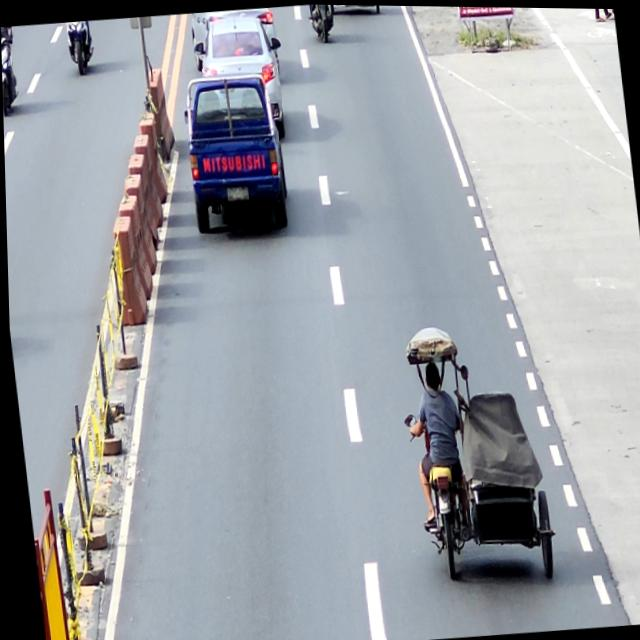Car: (179, 70, 290, 234), (193, 7, 290, 143)
License-Plate: (223, 182, 250, 203)
Motorcycle: (1, 26, 21, 117), (64, 20, 95, 75), (308, 4, 338, 44)
Tricycle: (390, 315, 557, 588)
